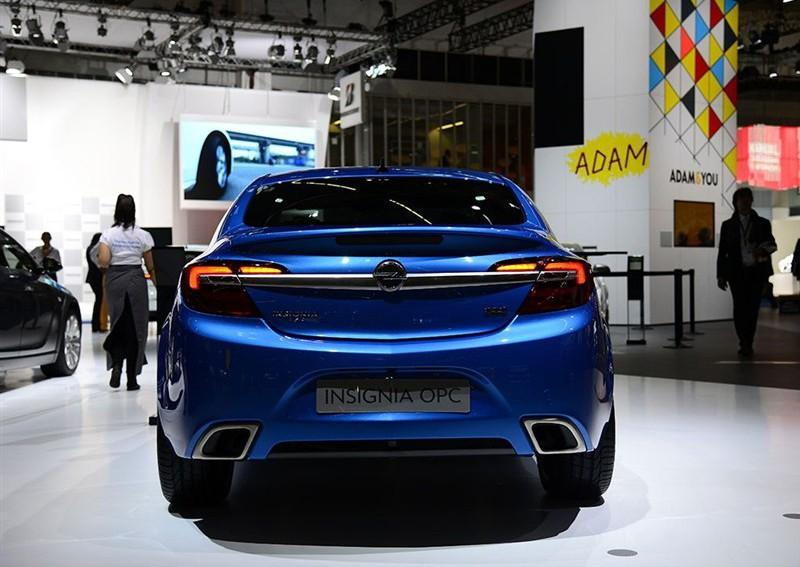Wagon: (158, 169, 616, 504)
